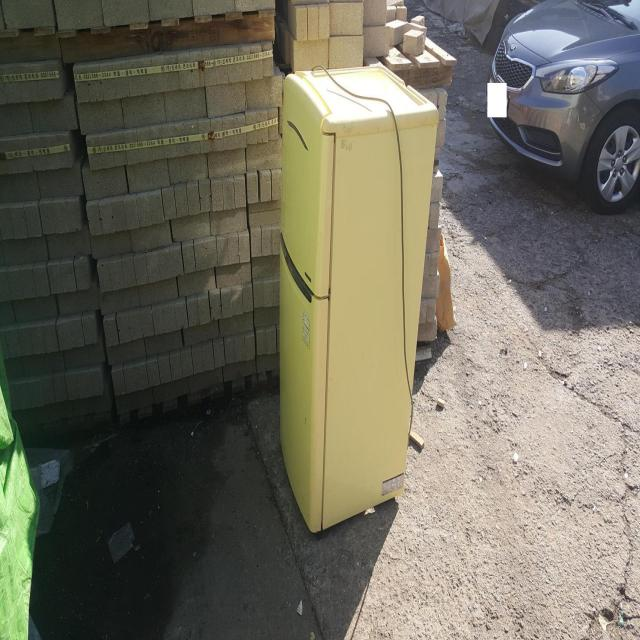refrigerator: (278, 56, 440, 535)
